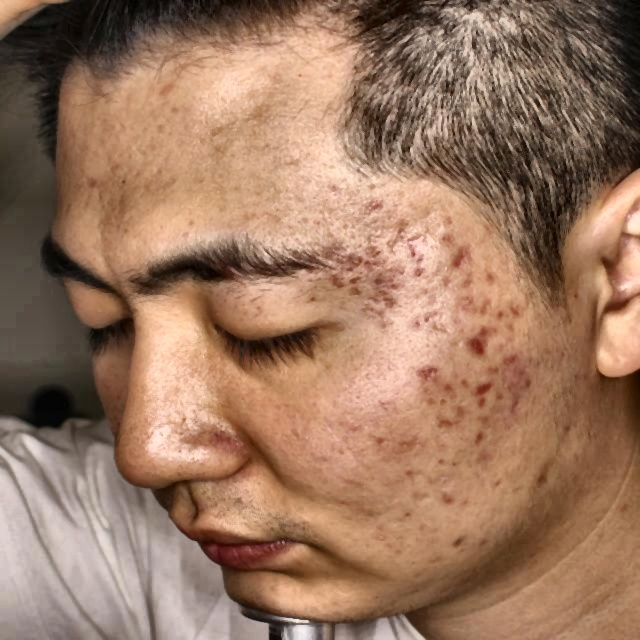pustule: (405, 359, 445, 384), (407, 248, 440, 275), (325, 265, 353, 289), (368, 262, 398, 282), (377, 286, 399, 313), (438, 228, 467, 248), (464, 376, 495, 394), (511, 368, 533, 392), (500, 292, 520, 316), (389, 218, 412, 238), (346, 249, 369, 268), (473, 319, 500, 334), (451, 251, 468, 266), (475, 339, 492, 354)
